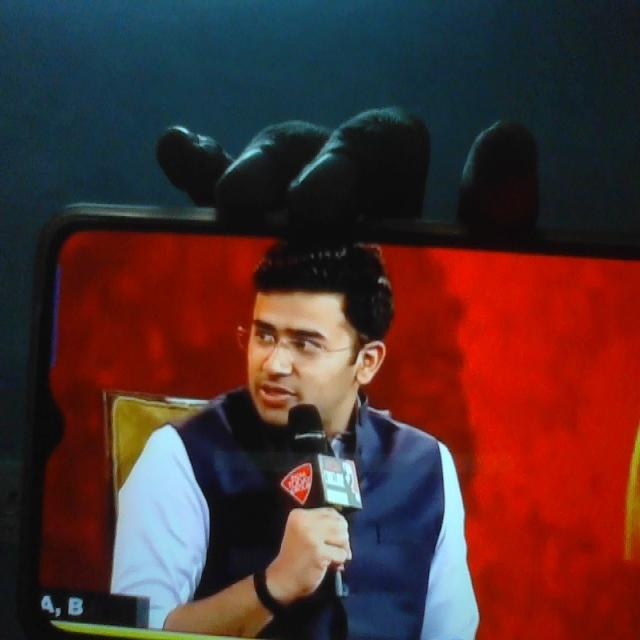fake: (228, 217, 358, 464)
